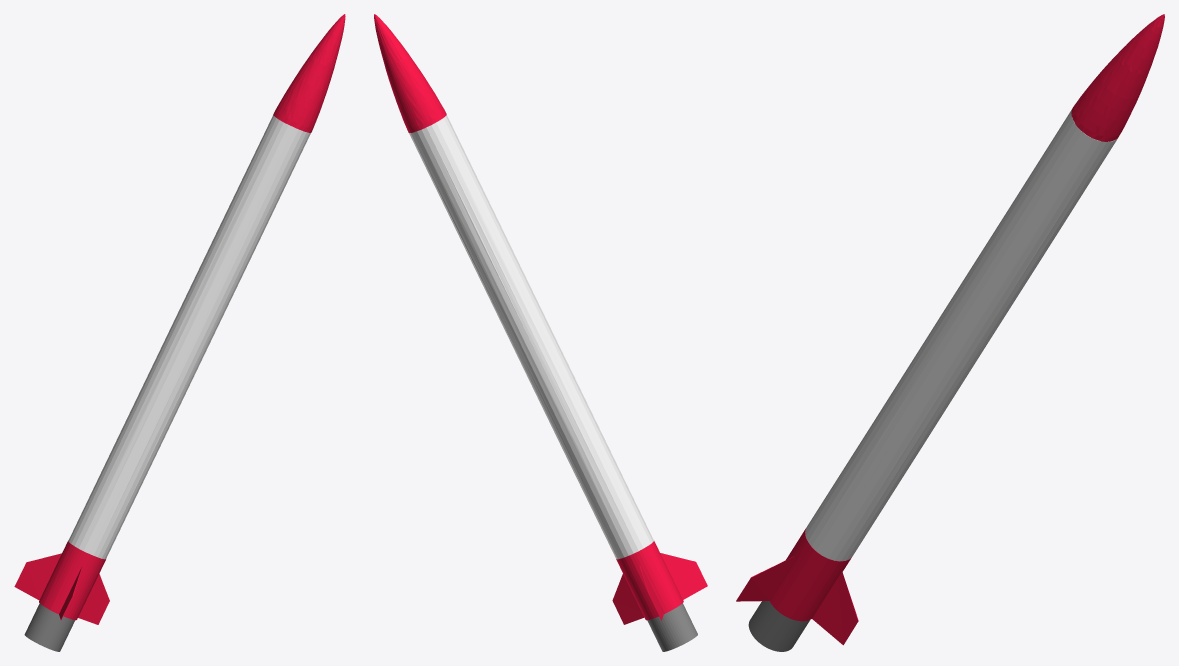
Rendered from my-raj-rocket.glb.
3 views of the same model, side by side, from view 1: azimuth 30°, elevation 25°; view 2: azimuth 150°, elevation 25°; view 3: azimuth 330°, elevation 25° (orthographic). The views are drawn at different scales.
Bounding box in the file's own units: 1.35 × 2.28 × 0.3402.
